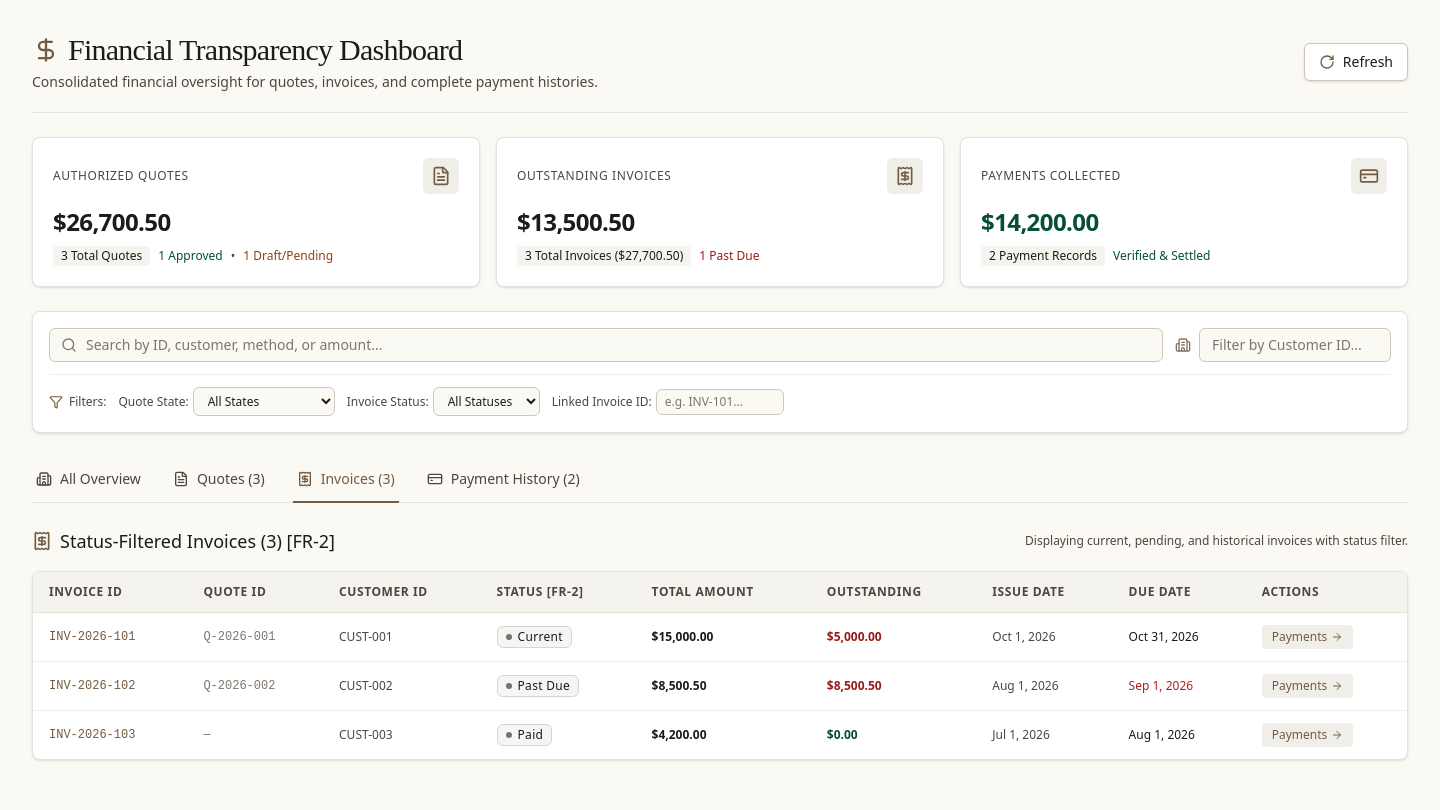
Test: Dashboard Component & Helper Functions [FR-1, FR-2, FR-3] › Filtering & Navigation Interactivity [FR-1, FR-2, FR-3] › filters invoices by invoice status dropdown [FR-2]
Step 1. Select "Past Due" in the dropdown with test id "invoice-status-filter" → (486, 402), box x1=433 y1=387 x2=540 y2=416
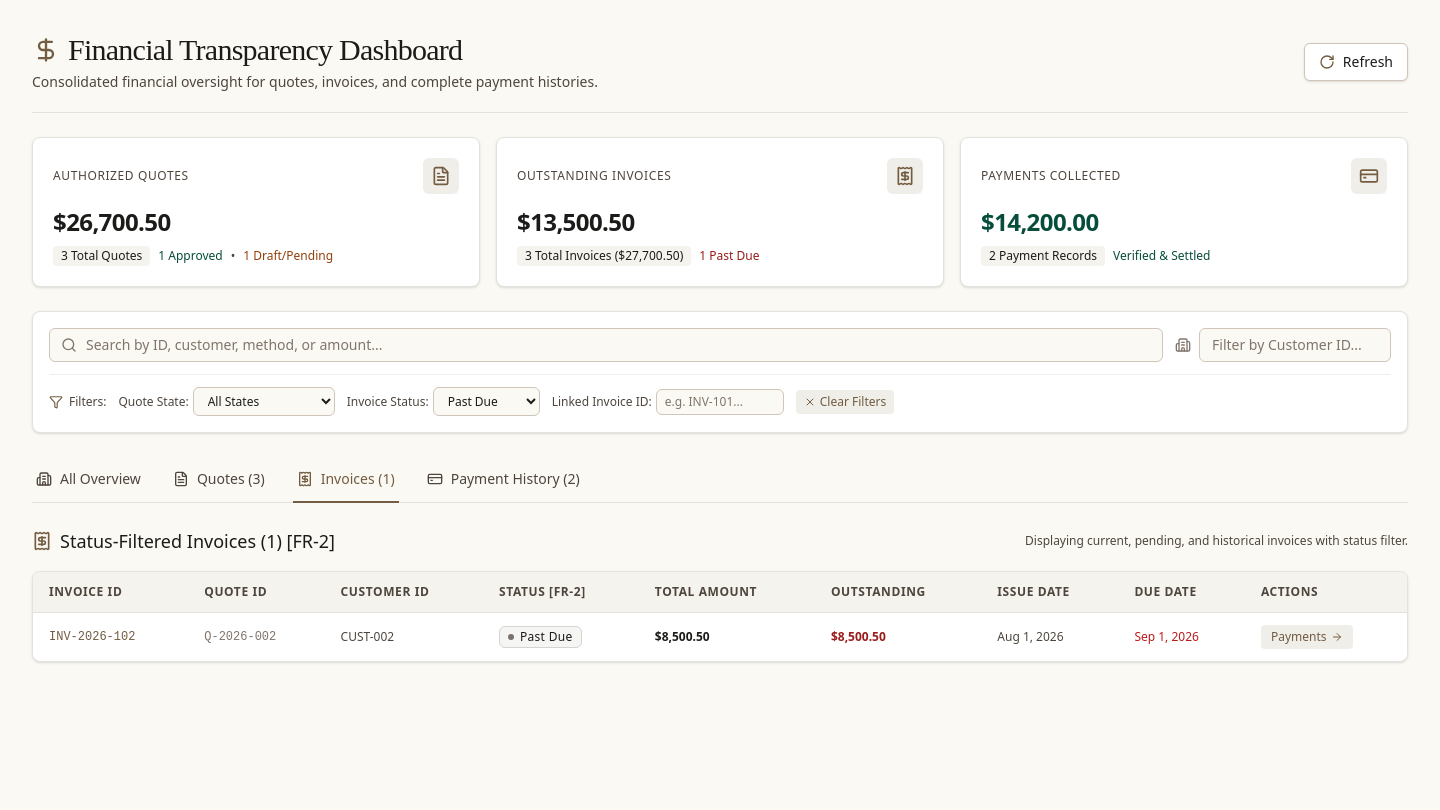
Expected: the row with test id "invoice-row-INV-2026-102" is shown, x1=33 y1=612 x2=1407 y2=661
Now the row with test id "invoice-row-INV-2026-101" is gone
Now the row with test id "invoice-row-INV-2026-103" is gone
